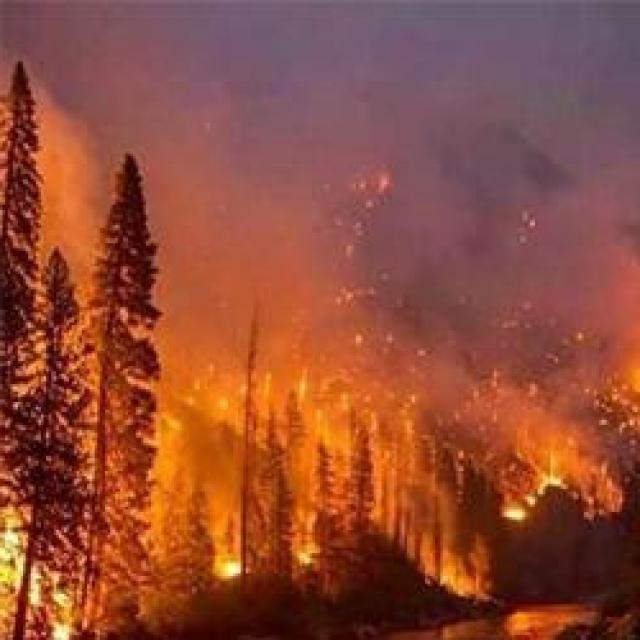smoke: (41, 122, 95, 232), (174, 408, 244, 483)
